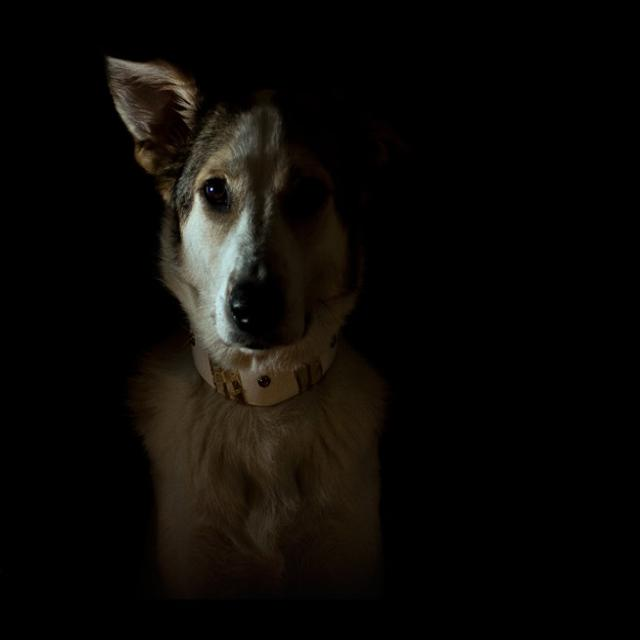dog: (54, 39, 427, 613)
